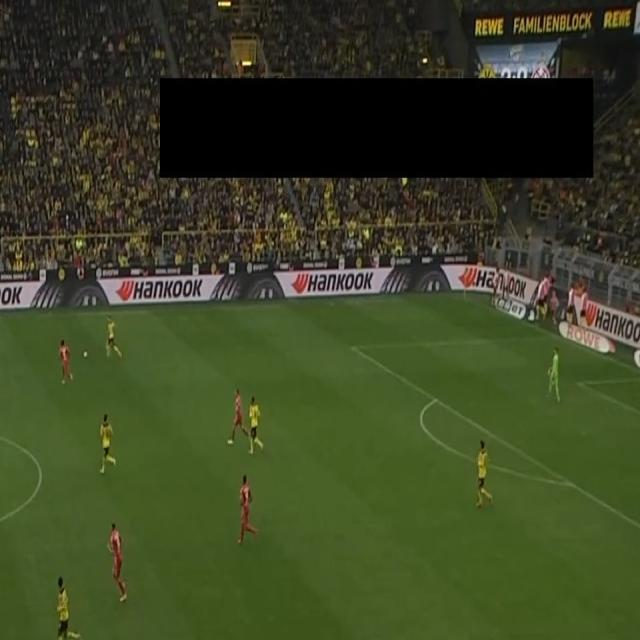ball: (82, 348, 89, 360)
